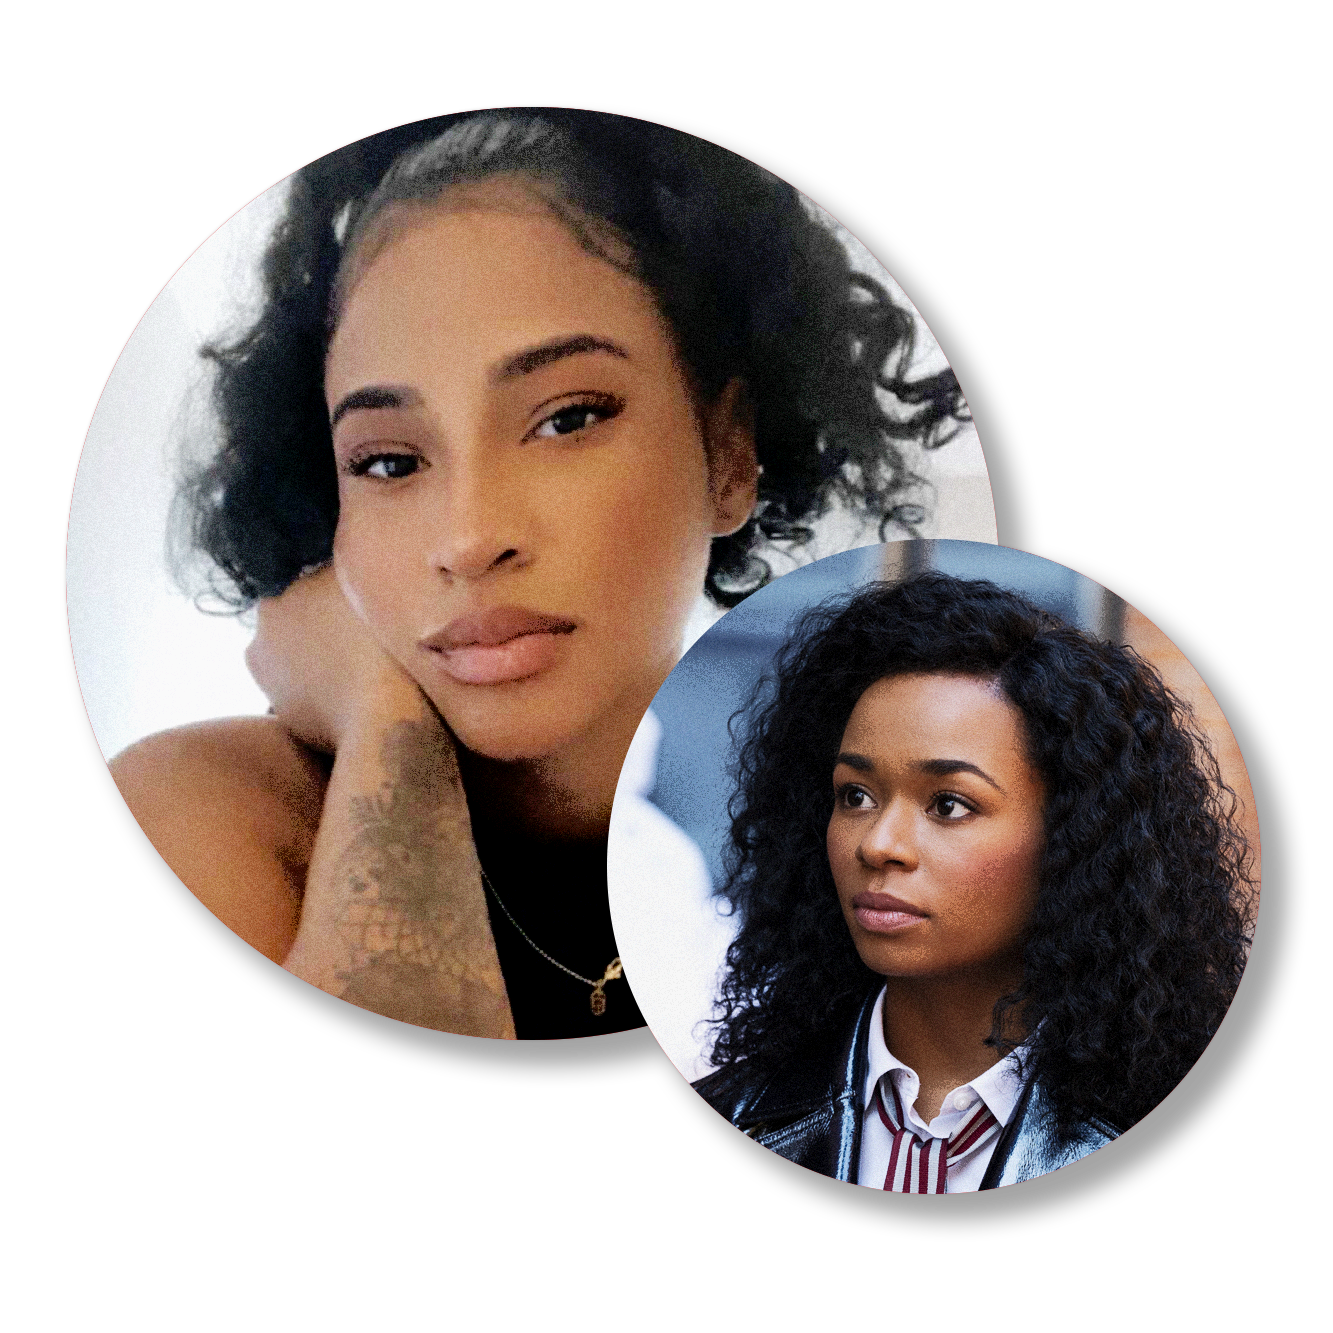No Mask: (359, 504, 638, 699), (799, 819, 1018, 958)
